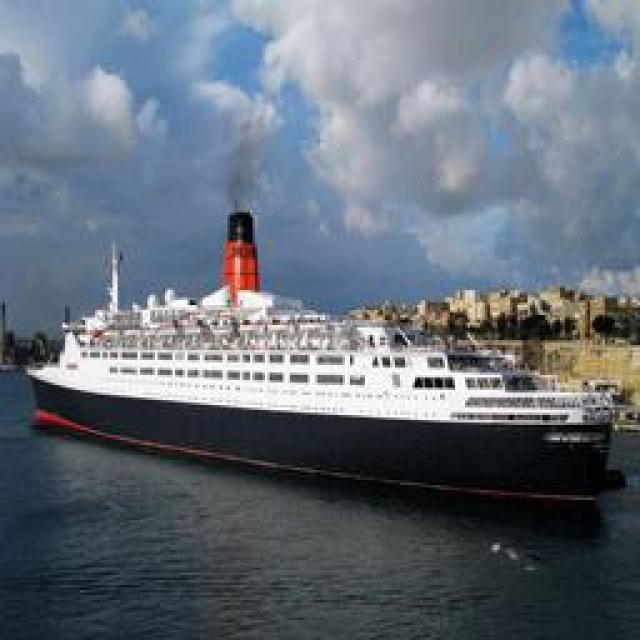CIV_Ship: (26, 239, 622, 489)
